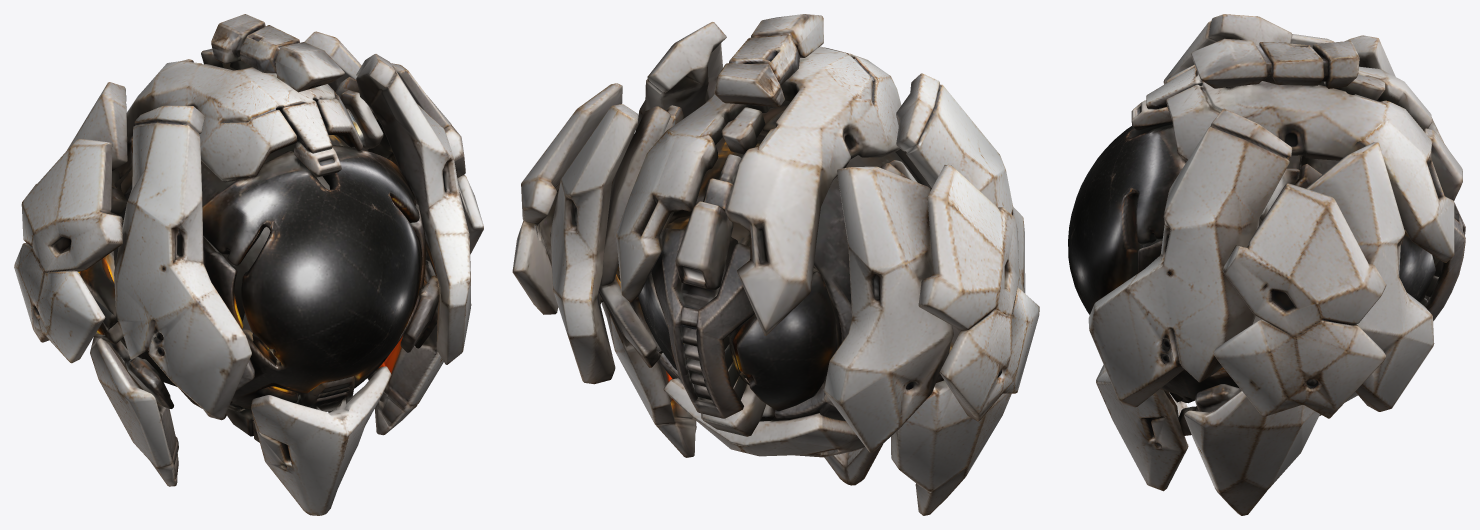
File: head.fbx
3 renders of one model, left to right at view 1: azimuth 30°, elevation 25°; view 2: azimuth 150°, elevation 25°; view 3: azimuth 270°, elevation 25°, orthographic. The views are drawn at different scales.
Parts seen in each view (by area): view 1: head_00001, head_00002, head_00028, head_00012, head_00039, head_00018, head_00021, head_00020, head_00024, head_00036, head_00030, head_00043 (+7 smaller); view 2: head_00028, head_00001, head_00024, head_00025, head_00012, head_00083, head_00054, head_00021, head_00018, head_00016, head_00013, head_00020 (+11 smaller); view 3: head_00012, head_00028, head_00002, head_00025, head_00020, head_00018, head_00039, head_00001, head_00053, head_00083, head_00035, head_00030 (+5 smaller).
Part boxes in pixels (x1,y1,x2,y2): head_00001: (14,105,251,420); head_00002: (202,145,422,409); head_00028: (126,59,362,182); head_00012: (356,54,483,364); head_00039: (251,366,391,515); head_00018: (211,14,344,92); head_00021: (90,337,178,486); head_00020: (367,260,443,435); head_00024: (67,82,127,170); head_00036: (203,237,243,329); head_00030: (400,269,439,352); head_00043: (339,90,383,149); head_00028: (616,46,901,335); head_00001: (896,73,1039,421); head_00024: (824,166,953,452); head_00025: (550,104,639,384); head_00012: (512,22,726,314); head_00083: (651,228,754,418); head_00054: (735,268,835,411); head_00021: (891,380,1011,515); head_00018: (714,14,823,107); head_00016: (663,378,864,457); head_00013: (629,137,851,384); head_00020: (601,301,696,457); head_00012: (1088,108,1386,418); head_00028: (1131,65,1454,262); head_00002: (1068,122,1193,402); head_00025: (1306,142,1434,411); head_00020: (1184,390,1319,515); head_00018: (1191,38,1359,88); head_00039: (1096,365,1188,491); head_00001: (1163,14,1334,84); head_00053: (1399,235,1435,302); head_00083: (1404,202,1465,320); head_00035: (1423,128,1462,200); head_00030: (1160,367,1239,398).
Bounding box in the file's own units: 1 × 0.9961 × 0.786.
1 material, 1 textured.
